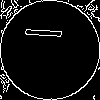I: (25, 25, 72, 41)
